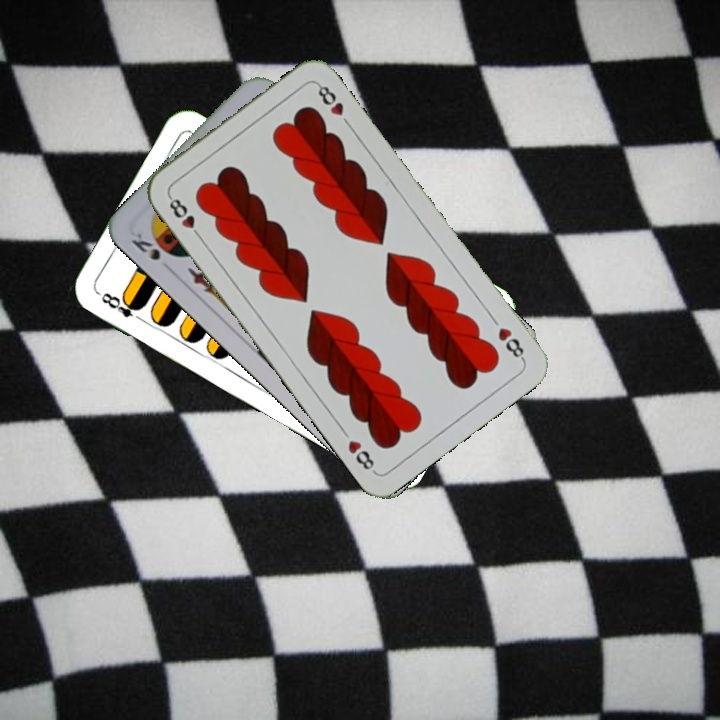E8: (94, 288, 148, 325)
H8: (164, 191, 205, 242), (494, 323, 528, 364)
SK: (127, 228, 163, 263)
